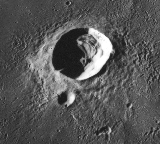crater: (23, 15, 148, 85), (37, 83, 104, 121)
